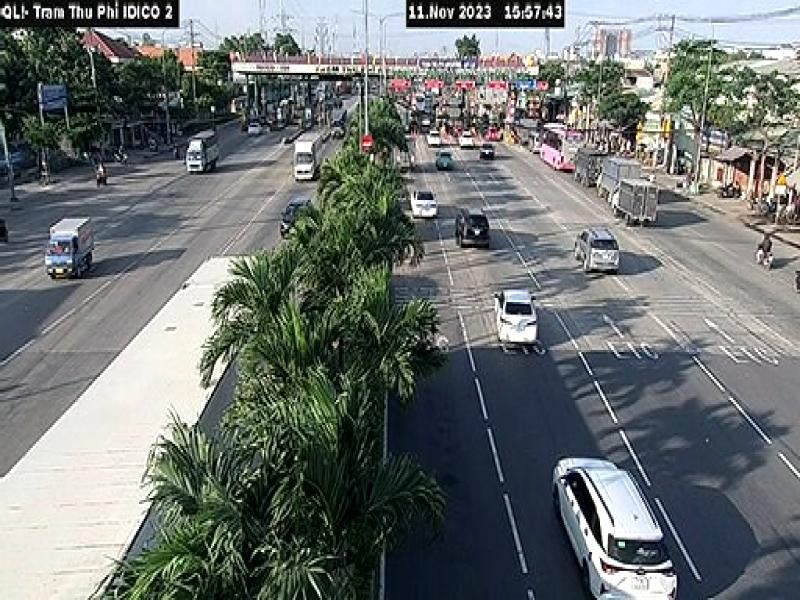bus: (535, 124, 583, 171)
truck: (41, 212, 94, 282), (610, 184, 662, 226), (293, 129, 324, 182), (186, 129, 218, 175)
